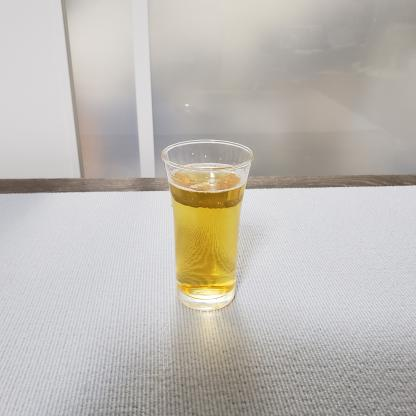glass: (154, 133, 264, 316)
